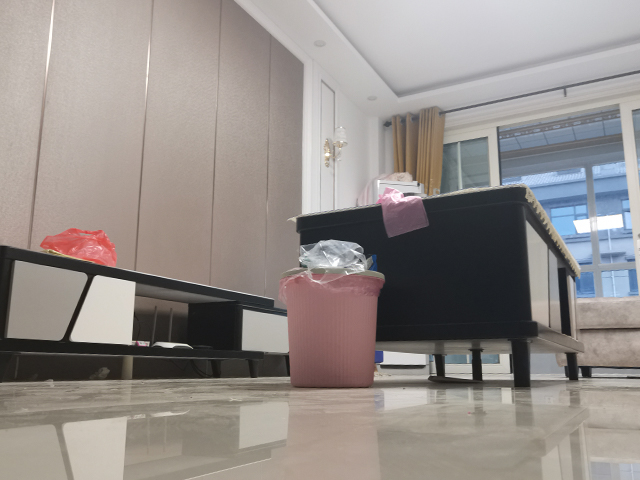cabinet: (1, 244, 292, 383)
sofa: (554, 295, 640, 382)
table: (291, 179, 583, 390)
trashcan: (277, 266, 390, 389)
